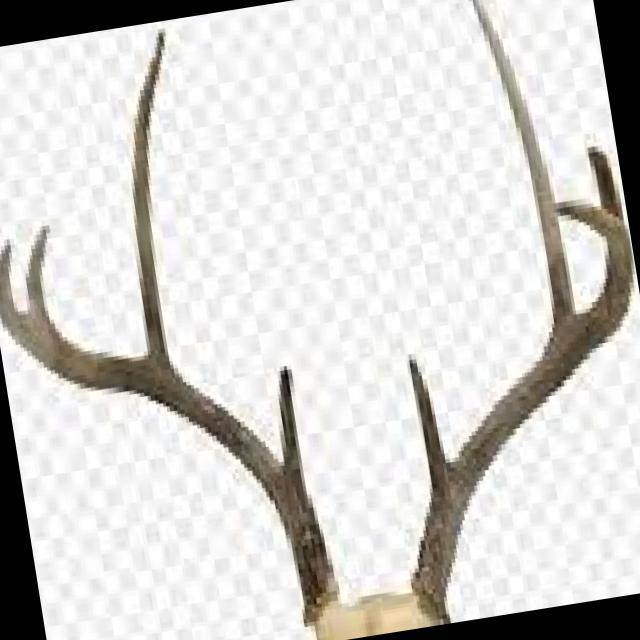L-F: (411, 199, 637, 623)
L-G2: (469, 0, 577, 329)
L-G5: (407, 354, 450, 492)
R-F: (0, 239, 340, 627)
R-G1: (277, 365, 307, 494)
R-G2: (131, 25, 172, 366)
R-G3: (25, 223, 55, 325)
